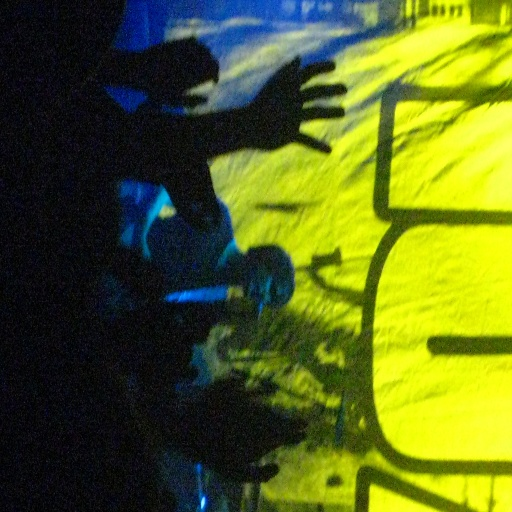hand: (170, 380, 307, 485), (250, 53, 347, 154), (140, 35, 219, 108)
